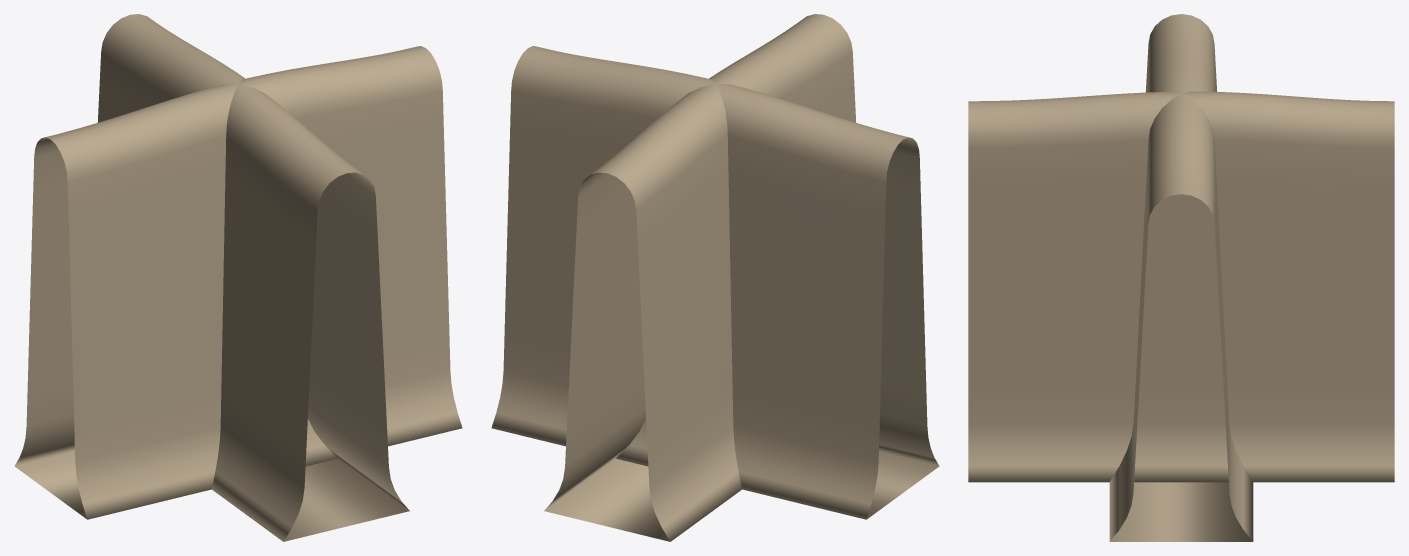
The model's file is KFB_Wall_cross.r4.glb.
3 views of the same model, side by side, from view 1: azimuth 30°, elevation 25°; view 2: azimuth 150°, elevation 25°; view 3: azimuth 270°, elevation 25° (orthographic).
Visible parts, largest first — view 1: KFB_Wall_cross; view 2: KFB_Wall_cross; view 3: KFB_Wall_cross.
Part boxes in pixels (bbox=[...]): KFB_Wall_cross: bbox=[14, 14, 462, 541]; KFB_Wall_cross: bbox=[491, 14, 939, 541]; KFB_Wall_cross: bbox=[968, 14, 1394, 541].
Bounding box in the file's own units: 4 × 3.7 × 4.
